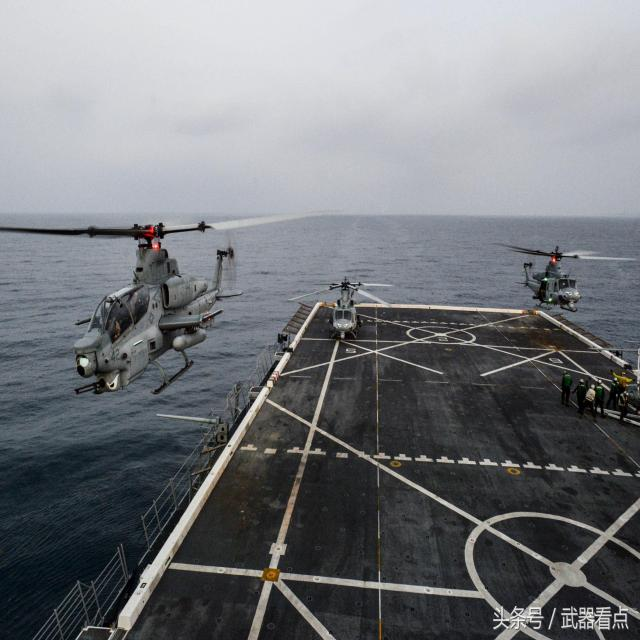MIL_HELO: (3, 191, 351, 416), (496, 227, 632, 319), (283, 265, 393, 344)
